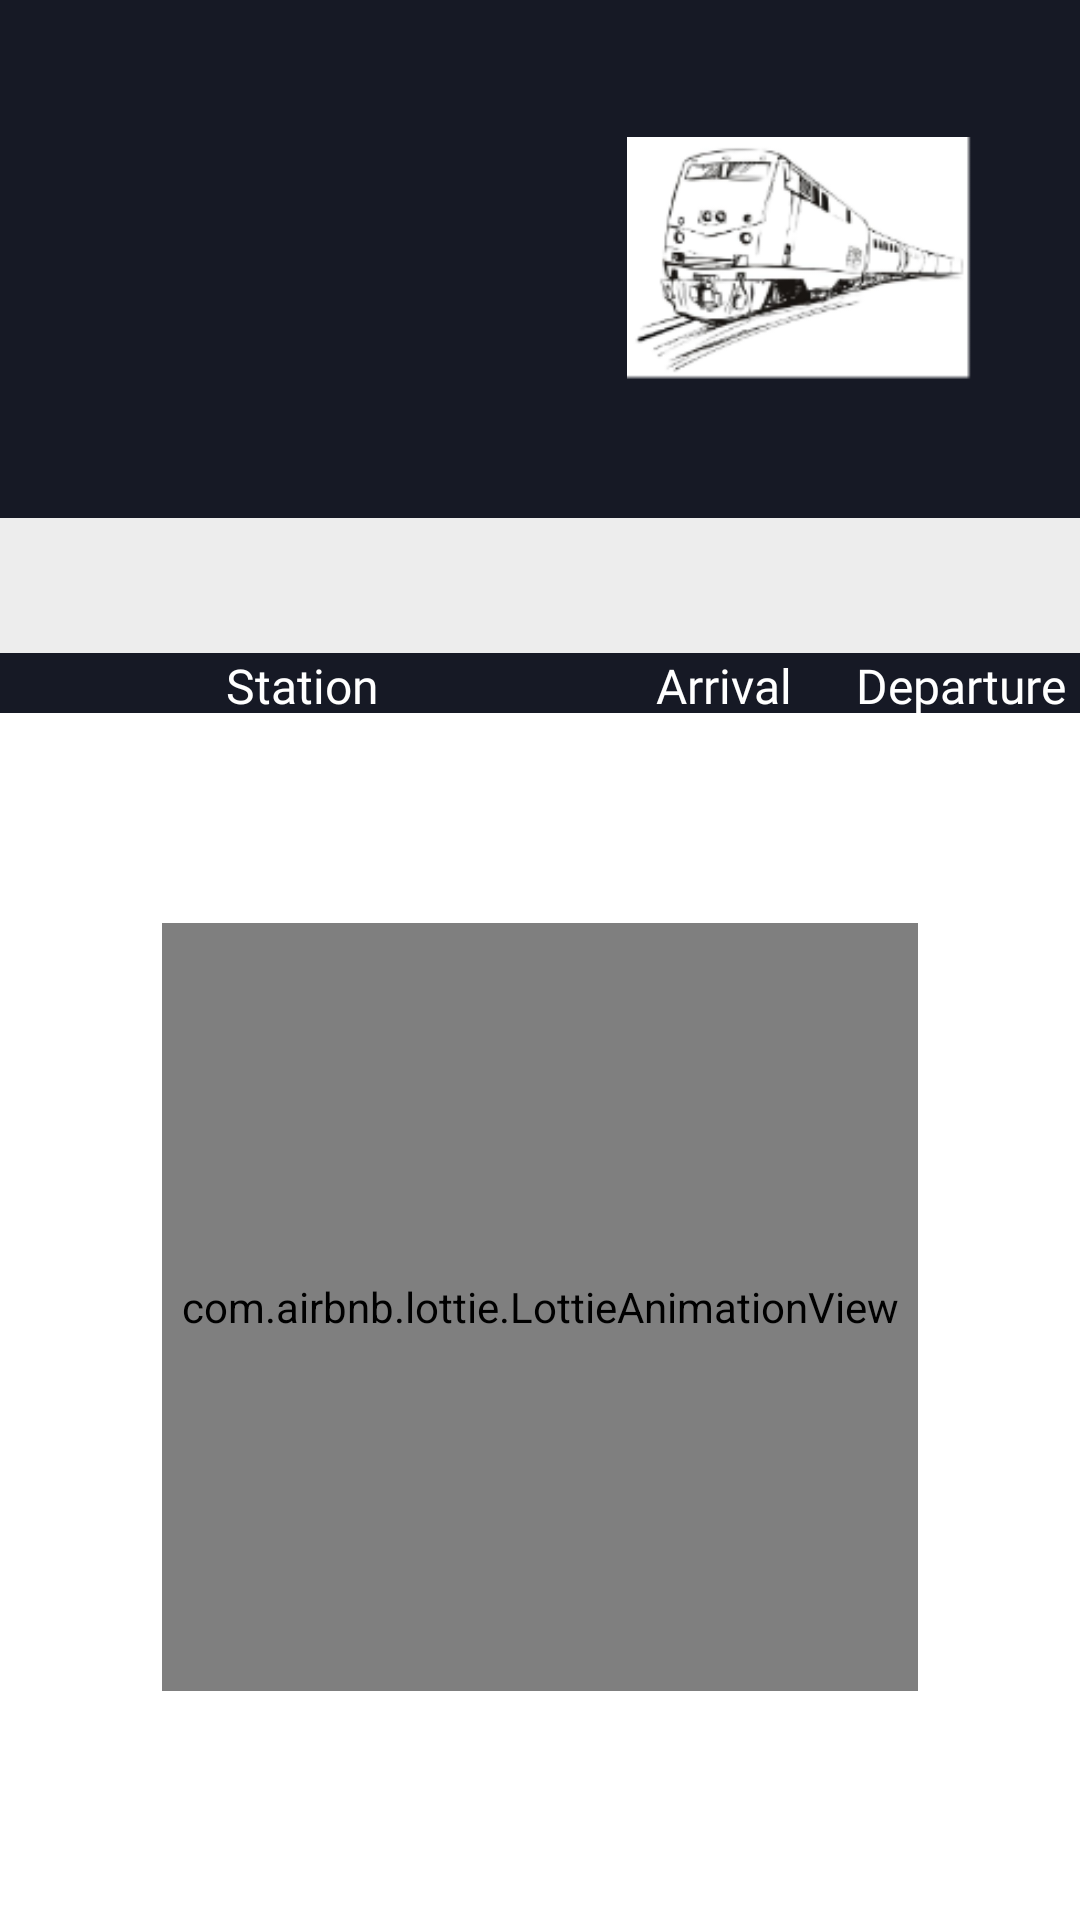

Named icons in this screenshot (1080 × 1920) and their bounding boxes, (x1=x1, y1=y1, x2=x2, y2=y2):
trainsketch: (x1=627, y1=137, x2=970, y2=379)
